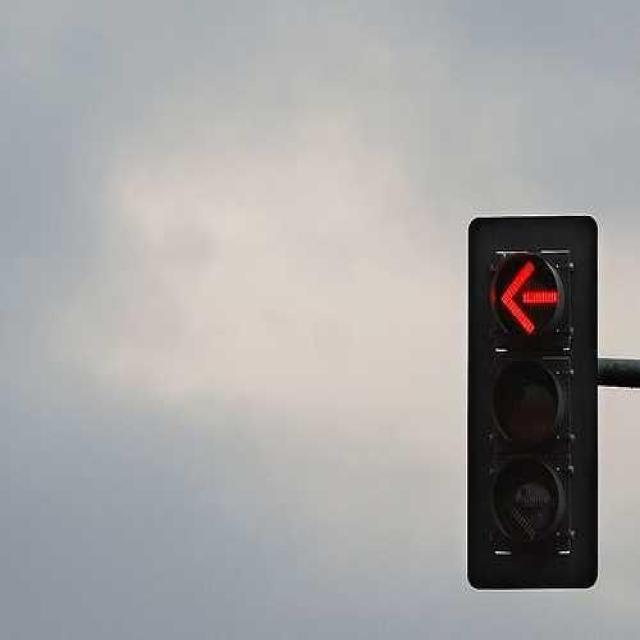Traffic Light -Red-: (462, 211, 604, 594)
